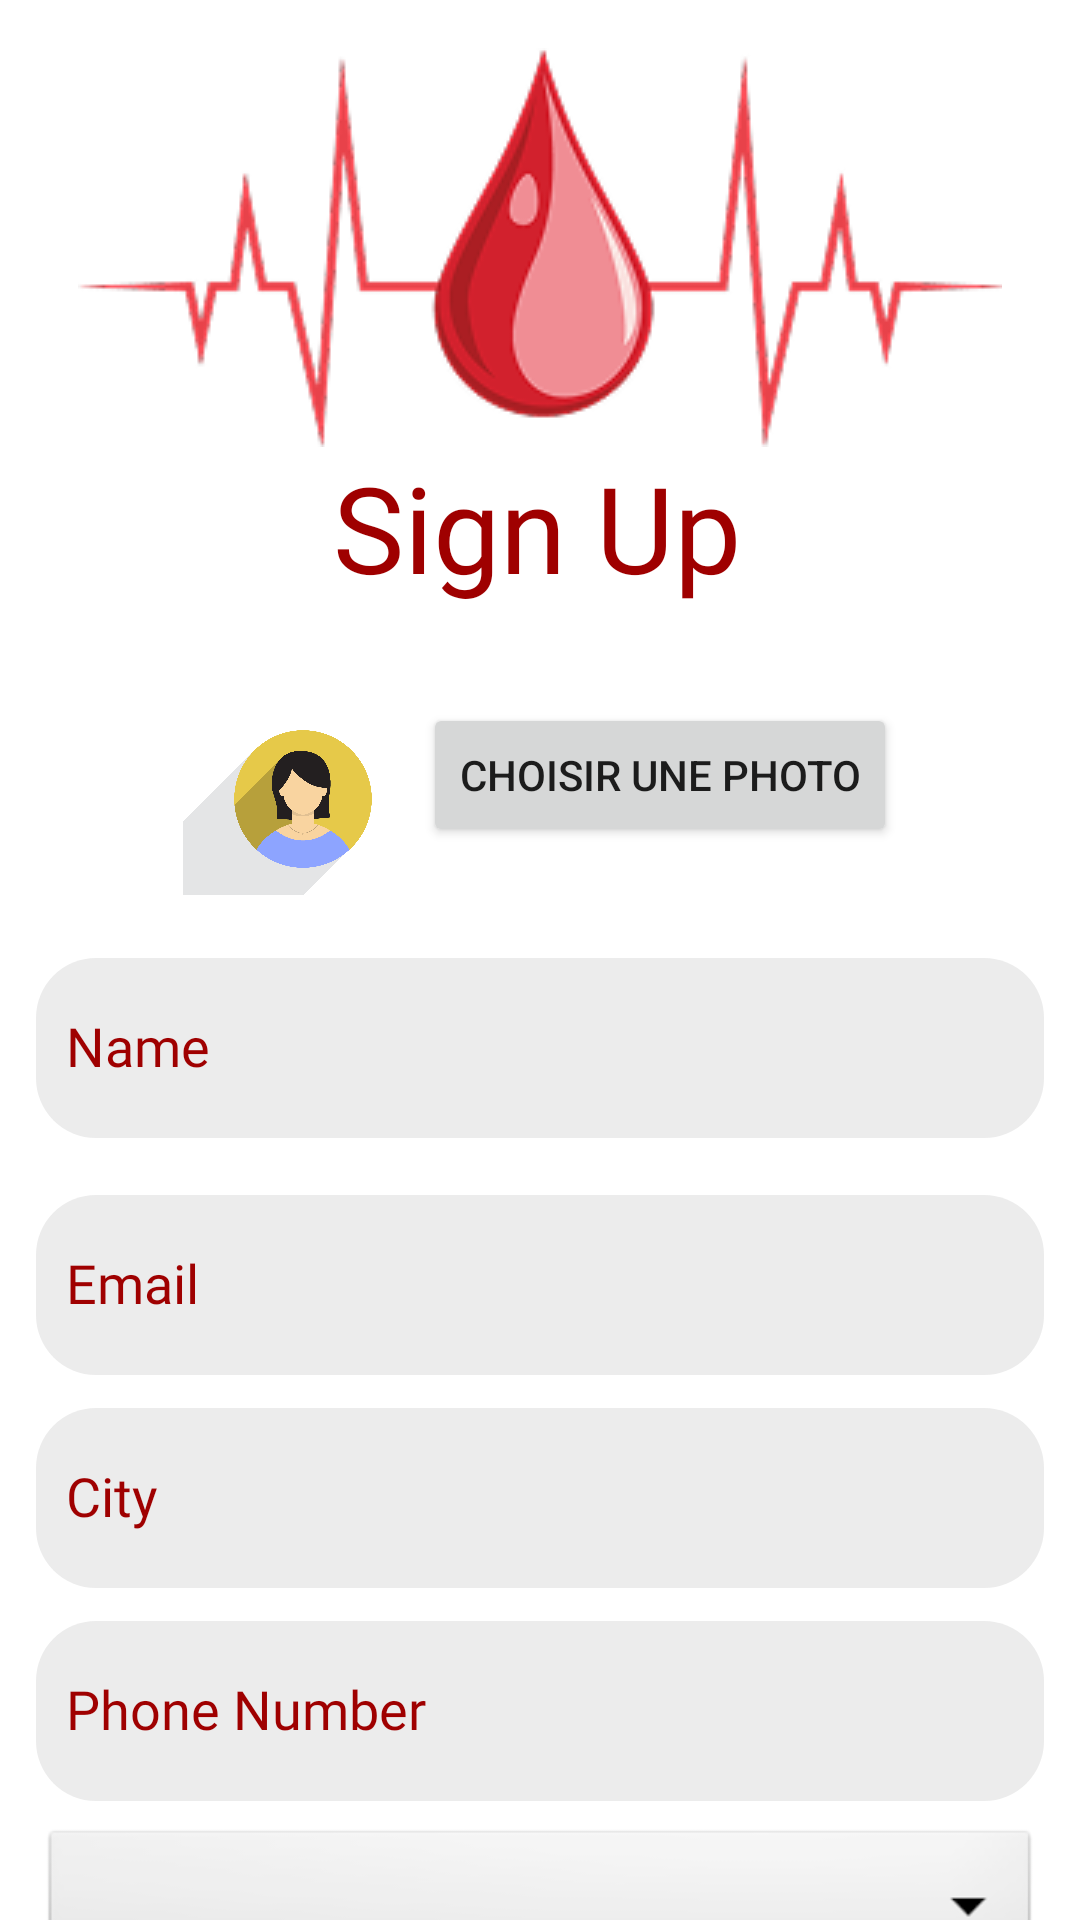

Icons on this 1080px×1920px Android screen, each with the point to tap as point (x, y):
femalephoto: point (277, 812)
